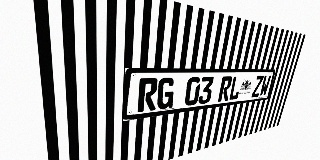0: (184, 77, 201, 106)
3: (198, 77, 214, 104)
G: (156, 77, 176, 110)
L: (228, 76, 243, 100)
R: (137, 78, 158, 112), (218, 76, 233, 102)
W: (259, 75, 271, 96)
Z: (251, 76, 264, 97)
